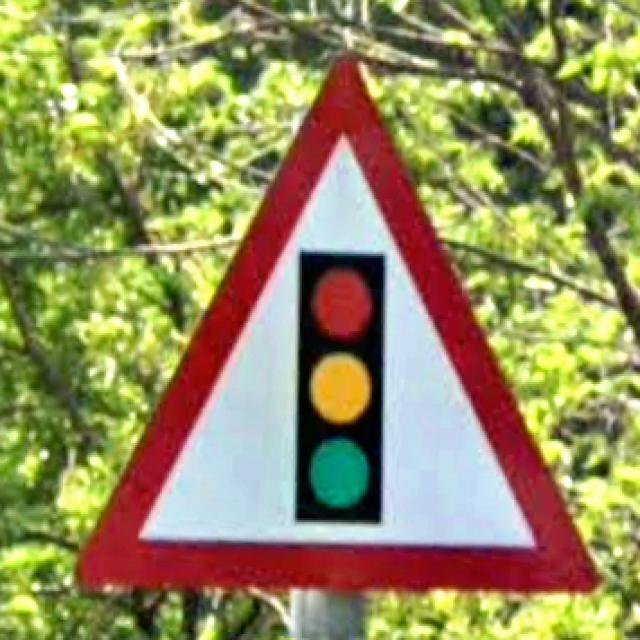signalahead: (72, 51, 604, 599)
